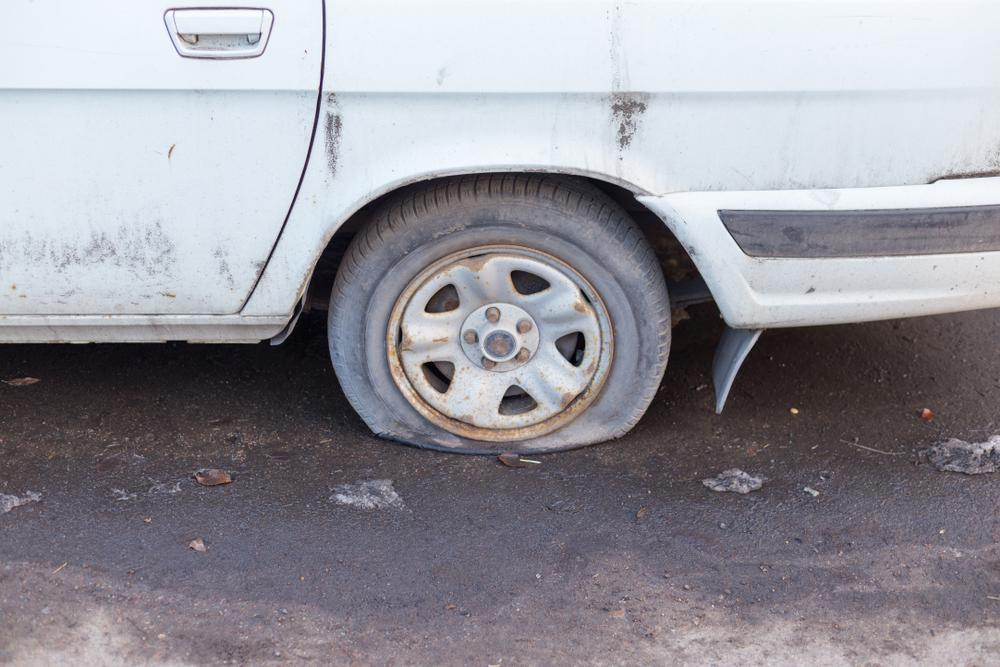tire flat: (329, 176, 674, 456)
